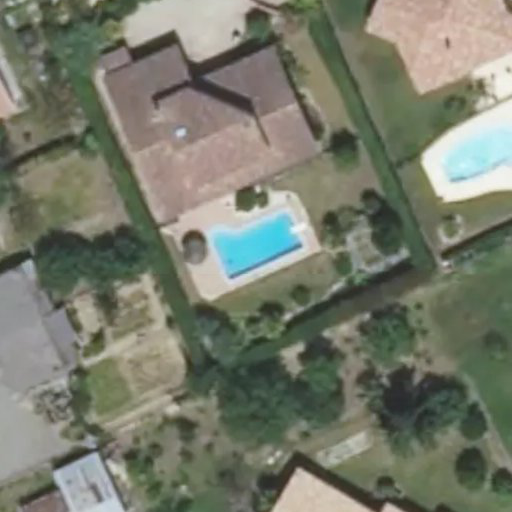pool: (206, 228, 305, 243)
